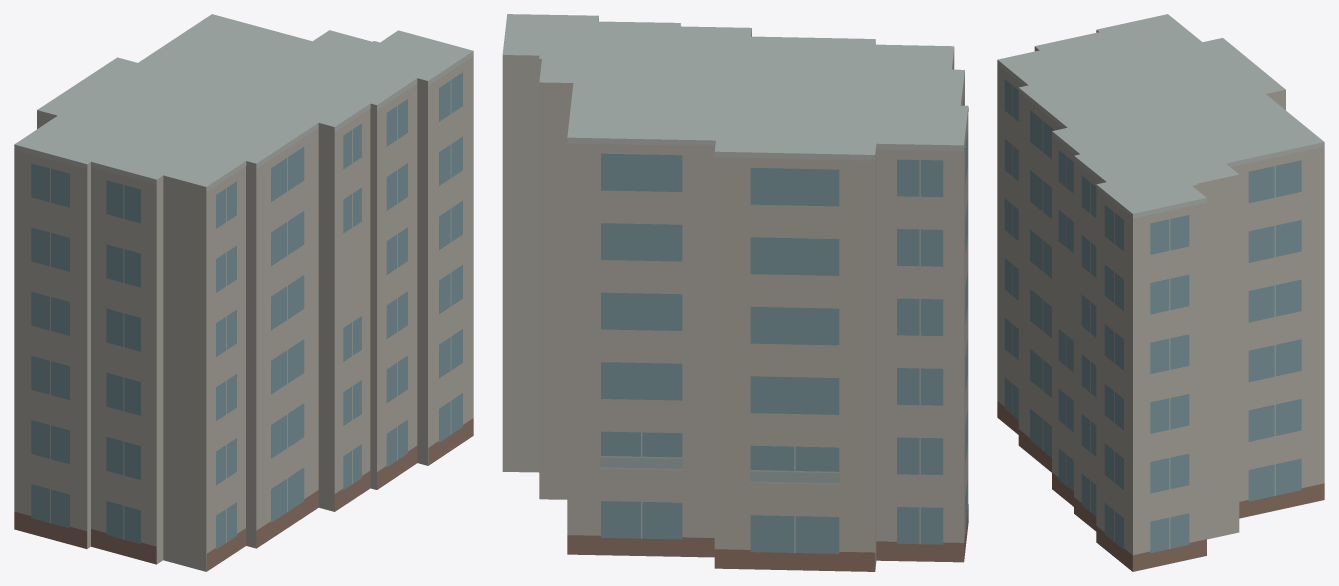
File: survey-upis-32749335.glb
3 views of the same model, side by side, from view 1: azimuth 30°, elevation 25°; view 2: azimuth 150°, elevation 25°; view 3: azimuth 270°, elevation 25° (orthographic). The views are drawn at different scales.
Visible parts, largest first — view 1: survey-upis-32749335.tmp; view 2: survey-upis-32749335.tmp; view 3: survey-upis-32749335.tmp.
Part boxes in pixels (x1=…): survey-upis-32749335.tmp: x1=14, y1=14, x2=473, y2=571; survey-upis-32749335.tmp: x1=502, y1=14, x2=968, y2=571; survey-upis-32749335.tmp: x1=997, y1=14, x2=1324, y2=571.
Bounding box in the file's own units: 21.93 × 18.3 × 15.16.
